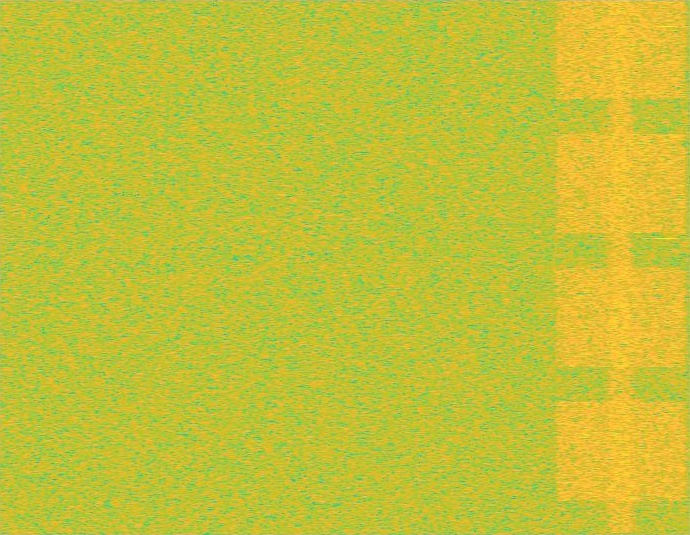5G: (552, 0, 689, 534)
DSSS: (605, 0, 637, 534)
Radar: (659, 0, 673, 534)
